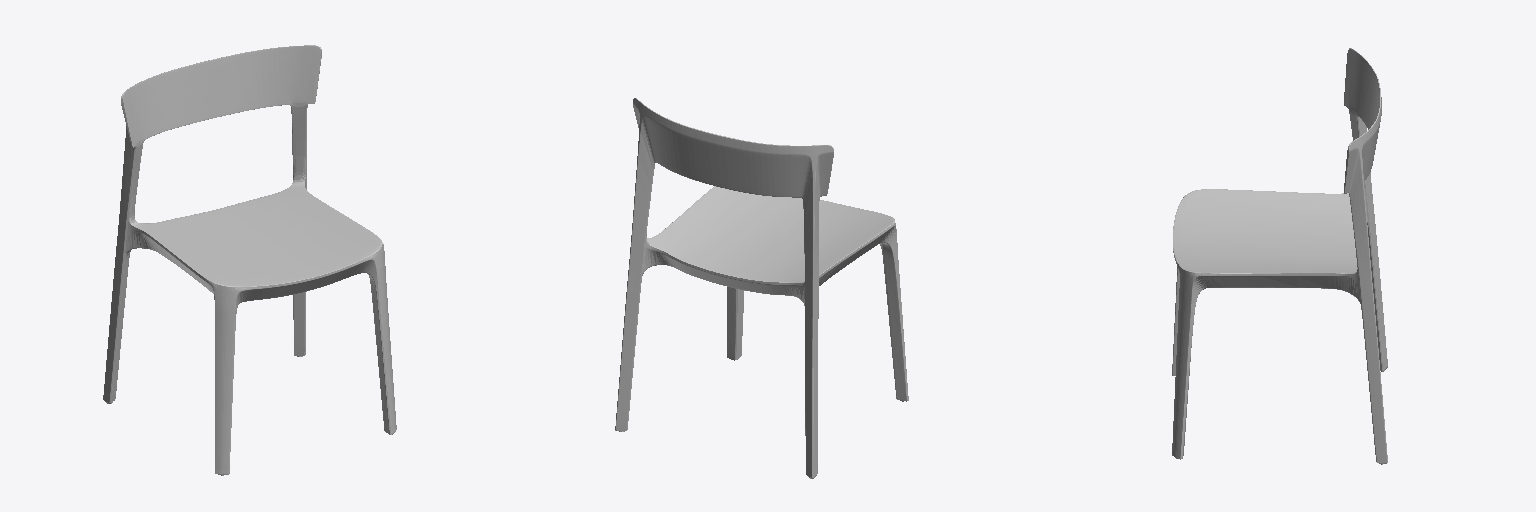
The model's file is uploads_files_2101984_Skin_chair.obj.
3 views of the same model, side by side, from view 1: azimuth 30°, elevation 25°; view 2: azimuth 150°, elevation 25°; view 3: azimuth 270°, elevation 25° (orthographic).
Visible parts, largest first — view 1: Skin_chair; view 2: Skin_chair; view 3: Skin_chair.
Part boxes in pixels (x1,y1,x2,y2): Skin_chair: (103, 45, 396, 475); Skin_chair: (615, 98, 908, 478); Skin_chair: (1172, 48, 1387, 464).
Size of the model in its own units: 51.96 by 79.33 by 48.27.